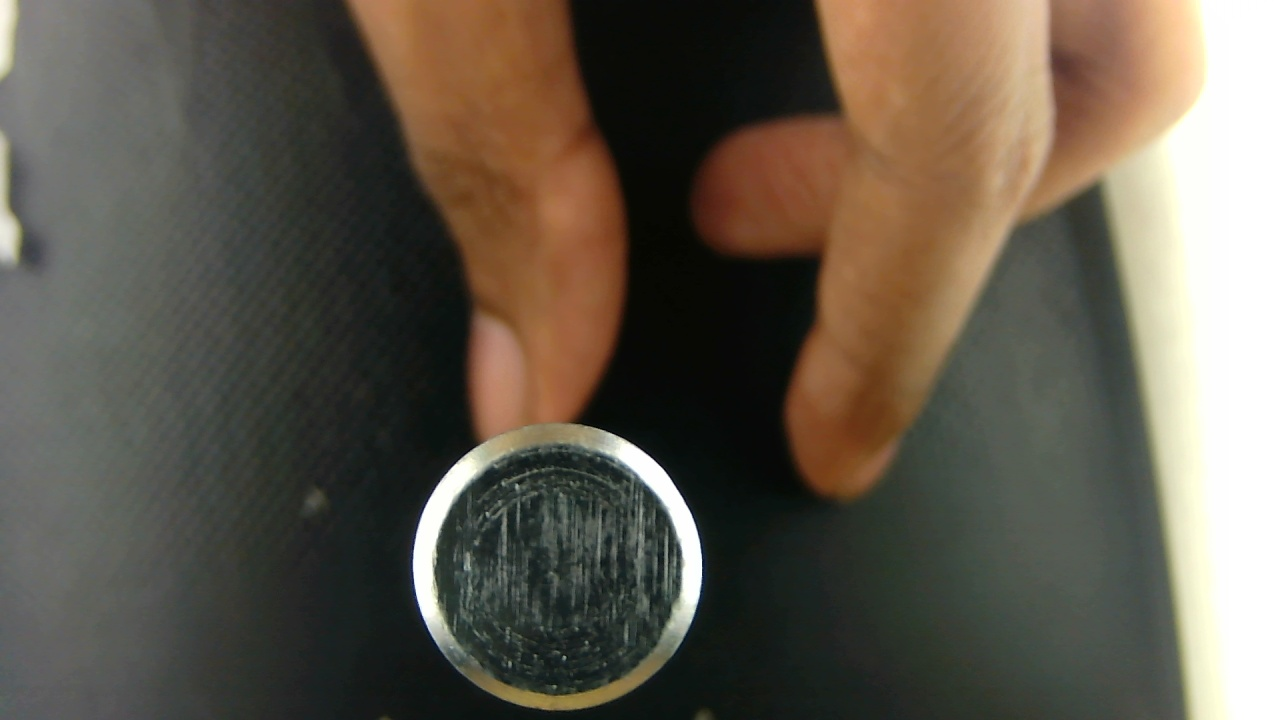Okay_Pin: (413, 425, 702, 709)
